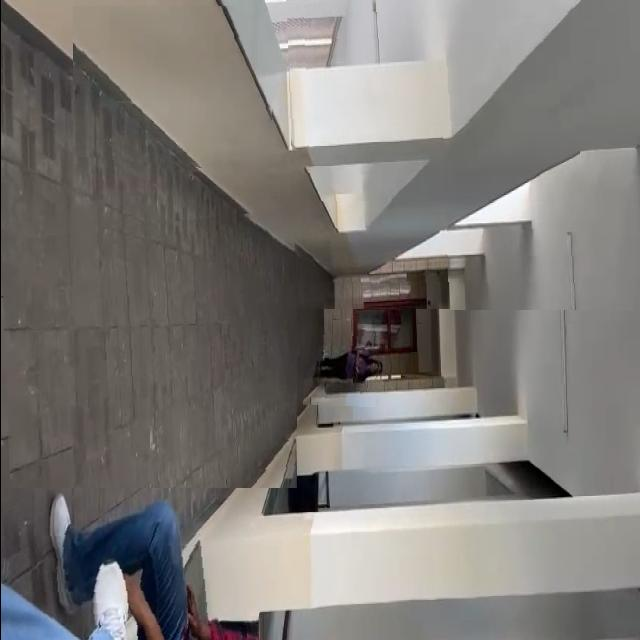floor: (0, 208, 296, 488)
moving_object: (1, 528, 246, 640), (302, 331, 382, 407)
wall: (285, 0, 640, 311), (72, 6, 273, 174)
